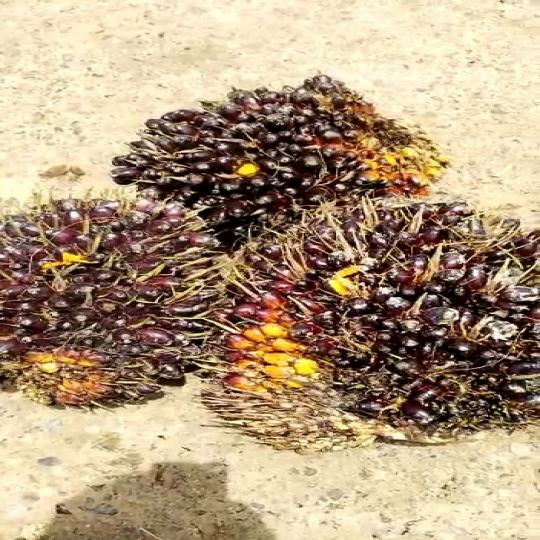mentah: (178, 176, 540, 458), (0, 197, 268, 423), (120, 73, 449, 220)
